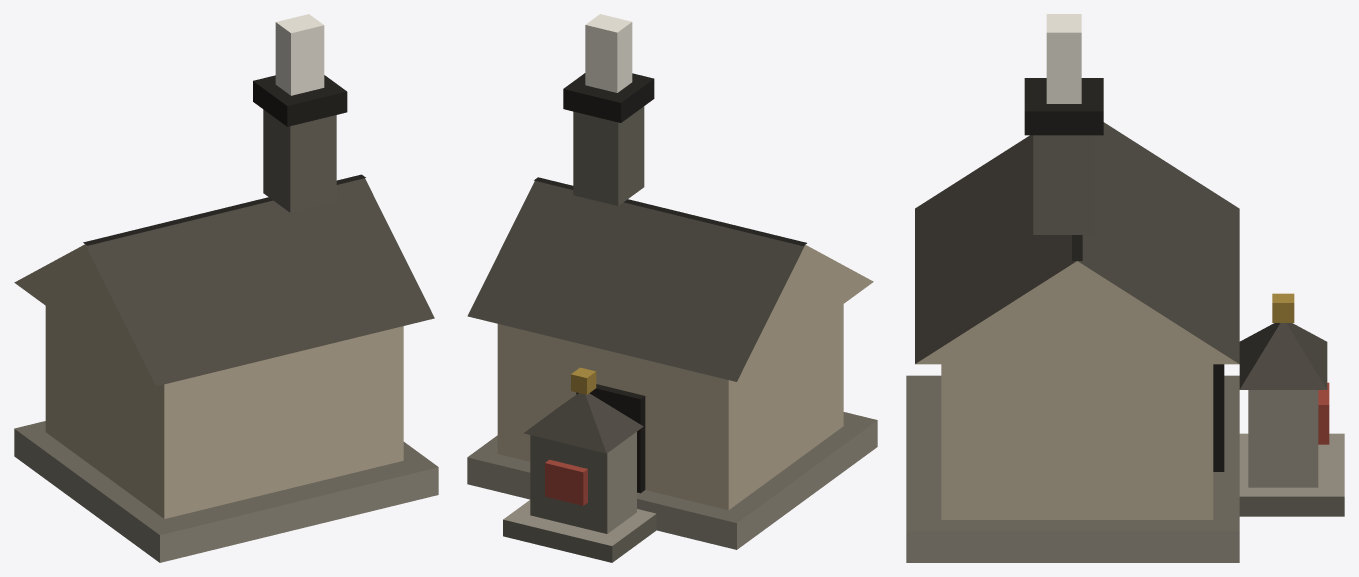
The model's file is bld_alchemy.glb.
3 views of the same model, side by side, from view 1: azimuth 30°, elevation 25°; view 2: azimuth 150°, elevation 25°; view 3: azimuth 270°, elevation 25° (orthographic). The views are drawn at different scales.
Visible parts, largest first — view 1: bld_alchemy; view 2: bld_alchemy; view 3: bld_alchemy.
Boxes of the visible parts, x1,y1,x2,y2 form: bld_alchemy: (14, 14, 438, 562); bld_alchemy: (467, 14, 877, 562); bld_alchemy: (906, 14, 1344, 562).
Bounding box in the file's own units: 0.84 × 1.26 × 1.
1 material, 1 textured.
